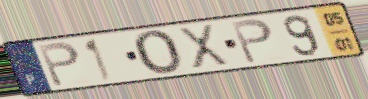1: (83, 35, 115, 83)
9: (282, 13, 321, 57)
O: (131, 29, 185, 77)
P: (36, 40, 83, 89), (229, 17, 276, 66)
X: (175, 22, 233, 70)
